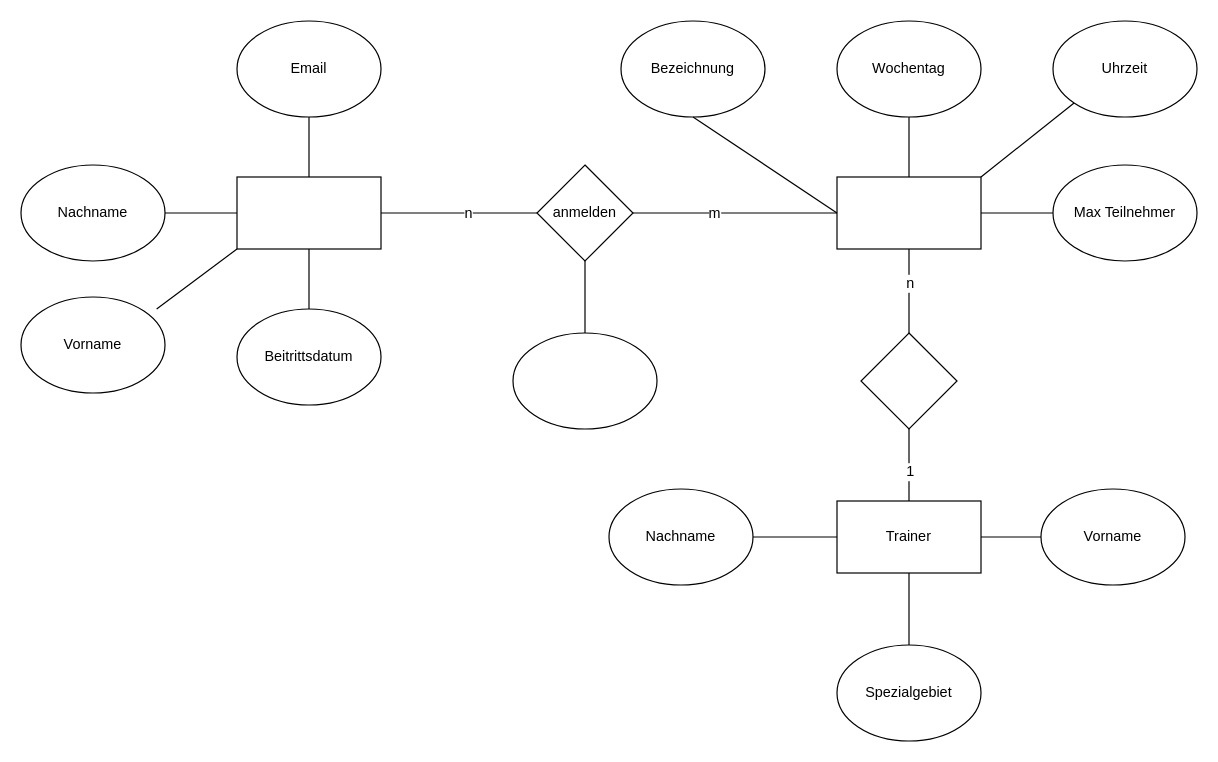
Some shapes in this 1218 by 762 pixel diagram are drawn without their labels. Here are the shapes that lost their labels. From the top down, the centre of each, then its label:
At point (308, 212): "Mitglied".
At point (908, 212): "Kurs".
At point (584, 380): "Anmelde-Datum".
At point (908, 380): "geleitet".
